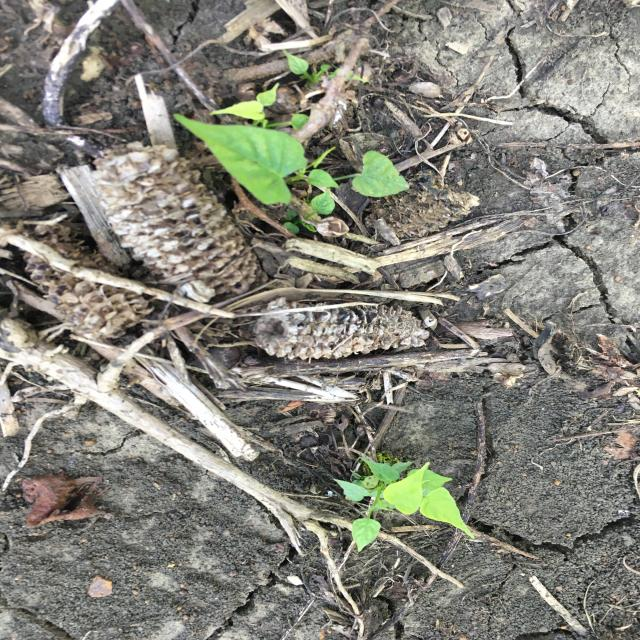MorningGlory: (171, 48, 413, 235), (331, 453, 478, 554)
